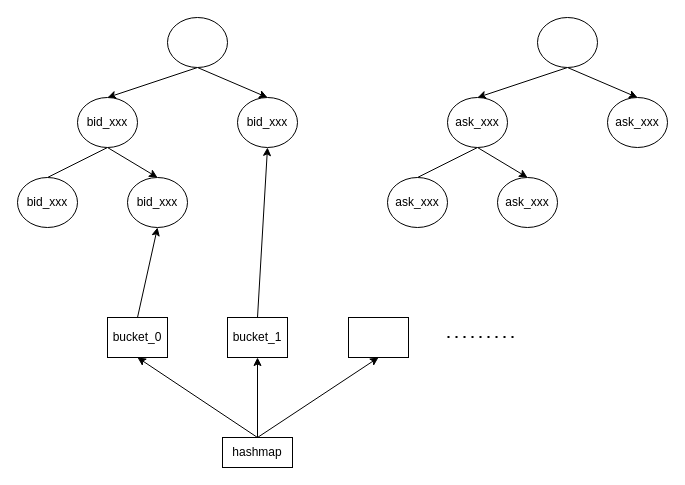
Image size: 685x485. Some labels were removed from this diagram. The shapes that lost their labels are listed below. From the top down, each one's box as (x1, y1, x2, y2) in pixels, then its label:
(166, 16, 228, 68): bid
(536, 16, 598, 68): ask
(348, 316, 408, 358): bucket_2
